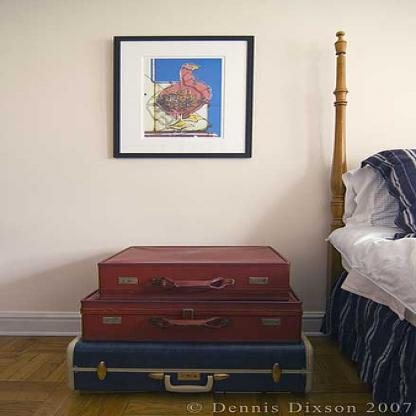suitcase: (65, 337, 315, 394), (80, 285, 304, 344), (99, 245, 291, 301)
